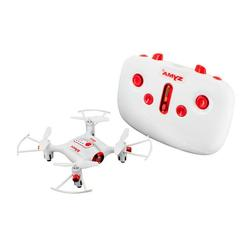drone: (15, 109, 154, 196)
